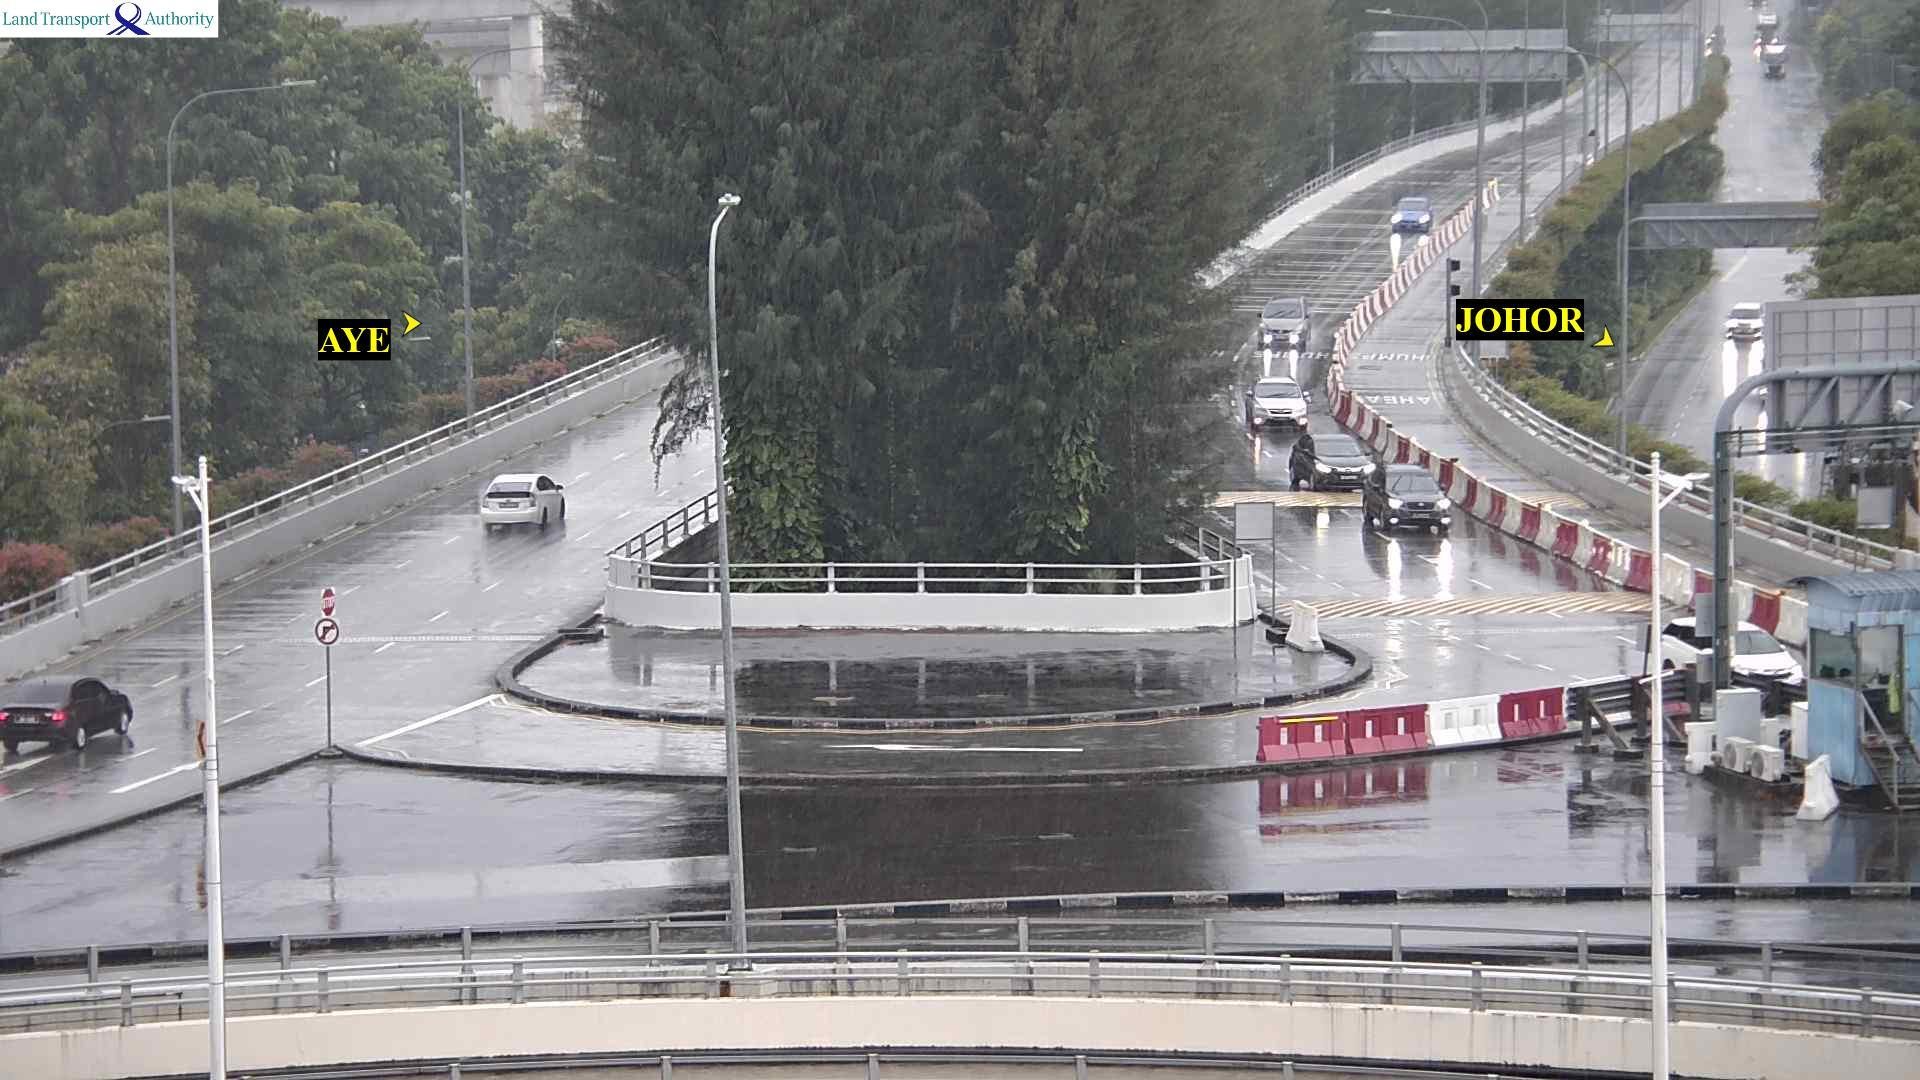vehicle-secondlink-johor: (1662, 615, 1798, 690), (1365, 470, 1452, 532), (1288, 436, 1387, 490), (1248, 377, 1311, 430), (1260, 297, 1310, 345), (1394, 195, 1430, 230)
vehicle-secondlink-singapore: (0, 677, 131, 749), (486, 472, 568, 533)
